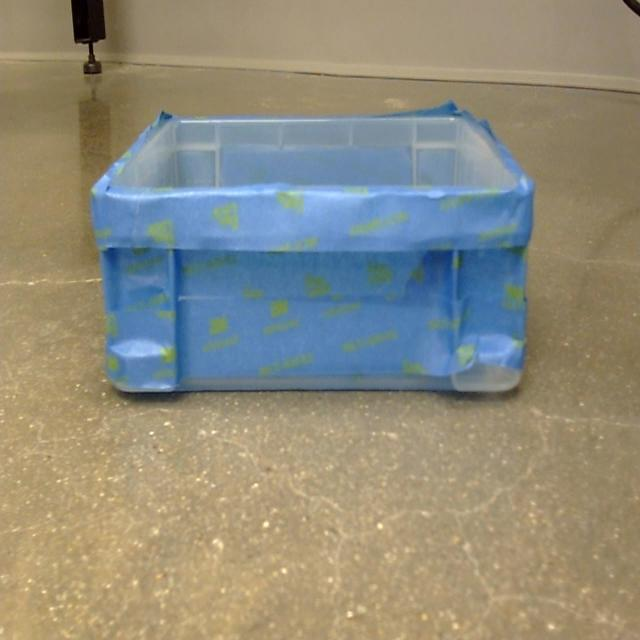bucket: (88, 103, 535, 400)
